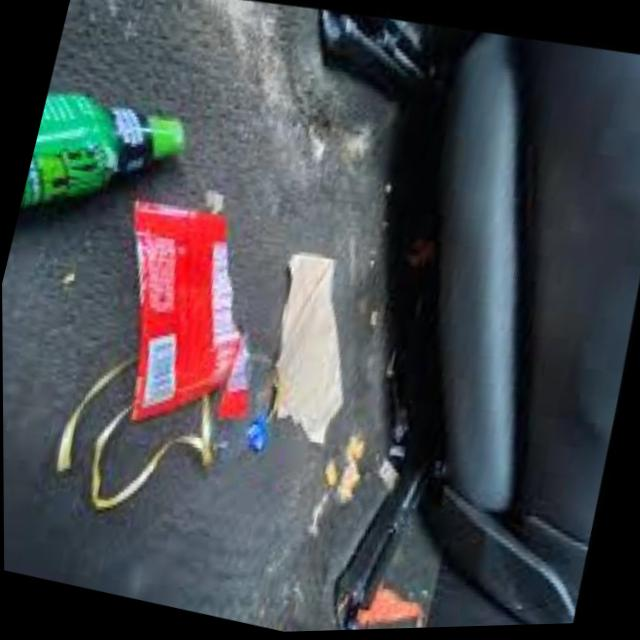foam box: (9, 18, 234, 288)
food: (54, 154, 310, 523), (232, 200, 391, 468)
